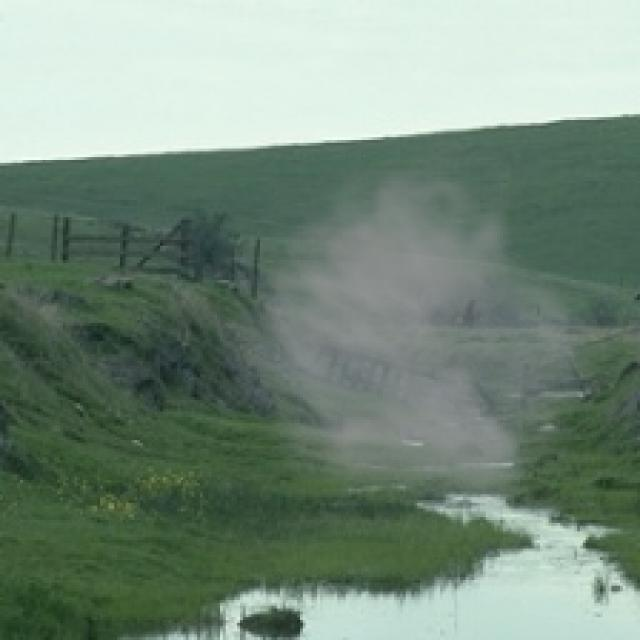Smoke: (202, 128, 618, 514)
